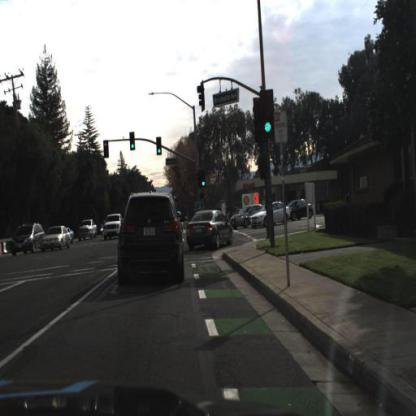car: (114, 188, 187, 295), (187, 206, 238, 257), (11, 223, 46, 257), (253, 199, 292, 228), (38, 226, 73, 256), (287, 201, 316, 224), (102, 212, 123, 243), (77, 215, 98, 244)
trafficLight: (103, 136, 110, 160)
trafficLight-Green: (259, 88, 276, 139), (131, 132, 136, 153), (201, 174, 207, 191), (157, 138, 162, 156)
